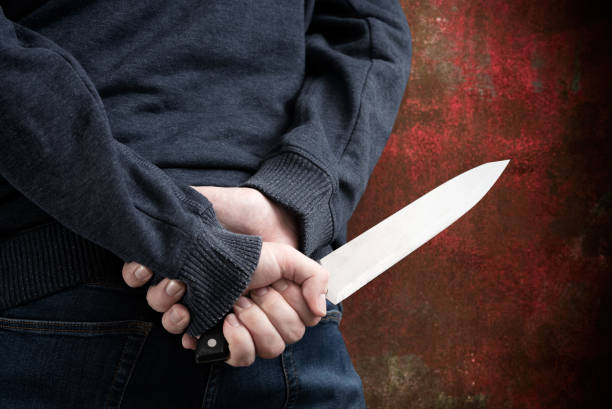knife: (194, 157, 515, 367)
